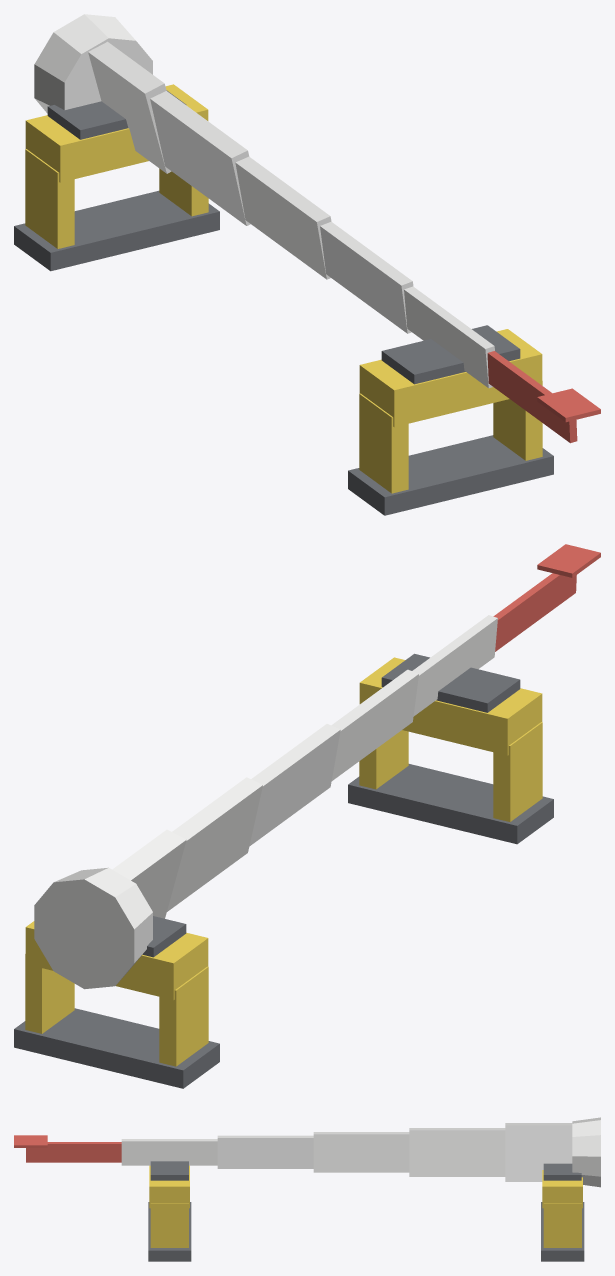
Rendered from wind-and-solar-energy-farm-turbine-blade-on-cradle-cb2d7b8f__34055.glb.
3 views of the same model, one above another, from view 1: azimuth 30°, elevation 25°; view 2: azimuth 150°, elevation 25°; view 3: azimuth 270°, elevation 25° (orthographic). The views are drawn at different scales.
Parts seen in each view (by area): view 1: turbine-blade-on-cradle; view 2: turbine-blade-on-cradle; view 3: turbine-blade-on-cradle.
Part boxes in pixels (x1=…): turbine-blade-on-cradle: x1=14, y1=14, x2=600, y2=515; turbine-blade-on-cradle: x1=14, y1=544, x2=600, y2=1088; turbine-blade-on-cradle: x1=14, y1=1117, x2=600, y2=1261.
Bounding box in the file's own units: 2.4 × 2.7 × 12.25.
